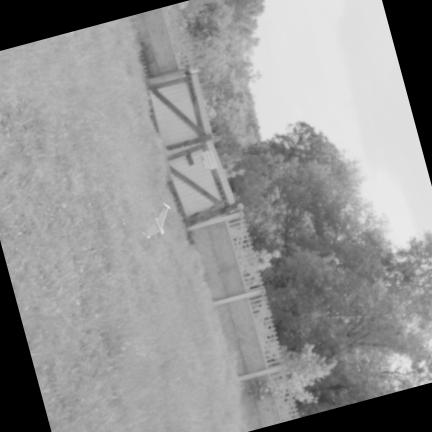Shahed: (142, 203, 169, 237)
